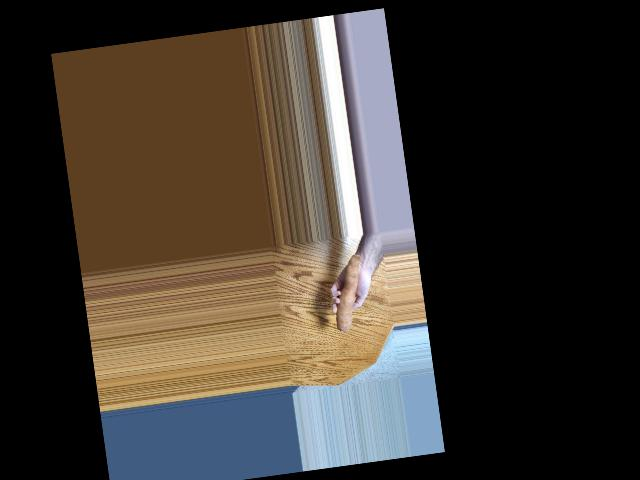sweet_potato: (324, 263, 367, 344)
